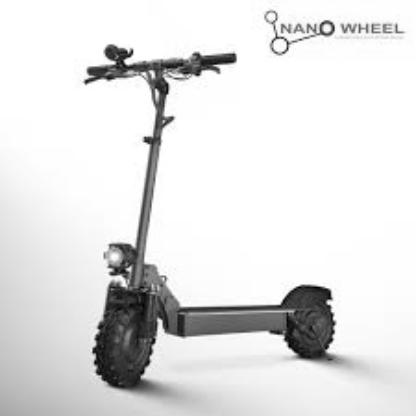bike: (83, 43, 337, 390)
